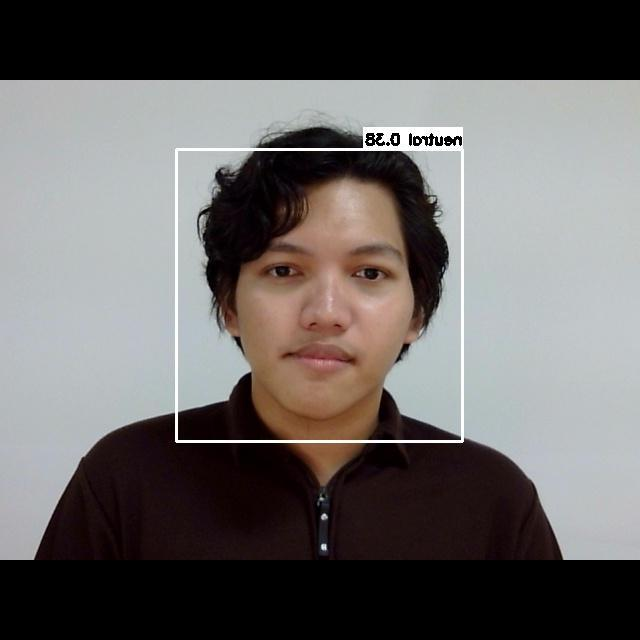Natural: (219, 220, 439, 423)
